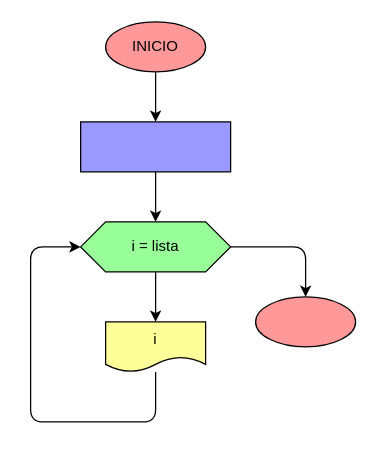
Image size: 378x454. Some labels were removed from this diagram. The centre of each missing label's shape, as x and y in pixels:
FIN: the point at 305,321
lista = [1, 2, 3, 4,5]: the point at 155,146
